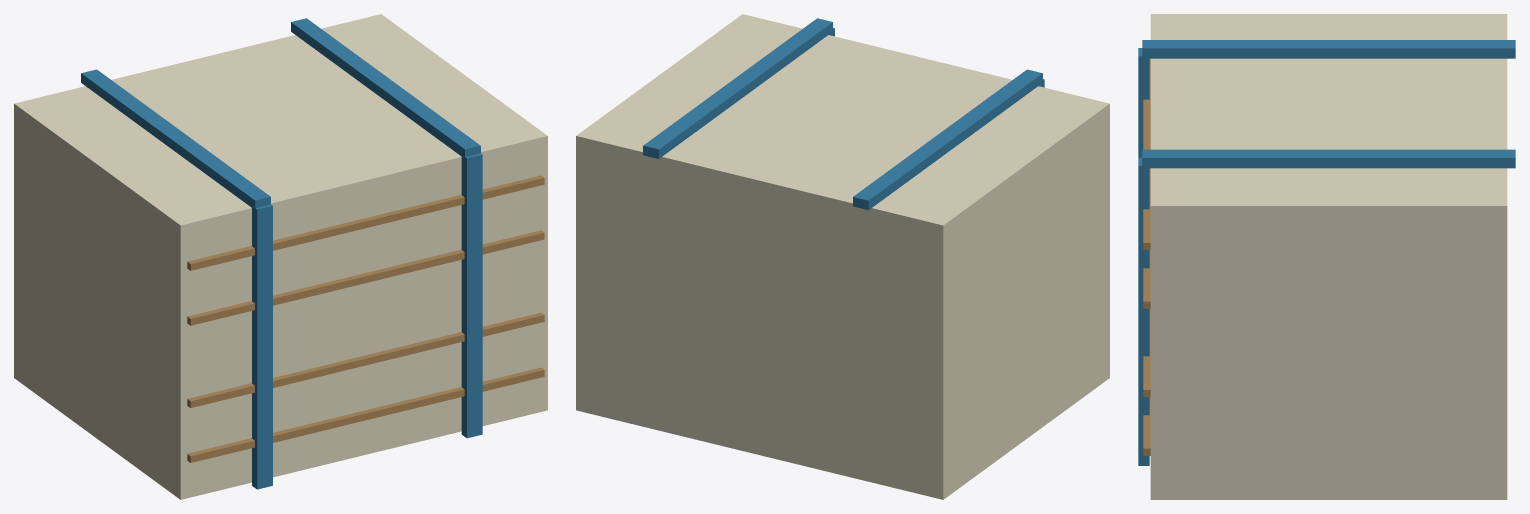
The model's file is CYCLE-014.glb.
The picture shows the model from 3 angles, left to right: view 1: azimuth 30°, elevation 25°; view 2: azimuth 150°, elevation 25°; view 3: azimuth 270°, elevation 25°; orthographic projection. The views are drawn at different scales.
Parts seen in each view (by area): view 1: CYCLE-014; view 2: CYCLE-014; view 3: CYCLE-014.
Part boxes in pixels (x1=…): CYCLE-014: x1=14, y1=14, x2=547, y2=499; CYCLE-014: x1=576, y1=14, x2=1109, y2=499; CYCLE-014: x1=1138, y1=14, x2=1515, y2=499.
Size of the model in its own units: 1.4 by 1.05 by 1.16.
